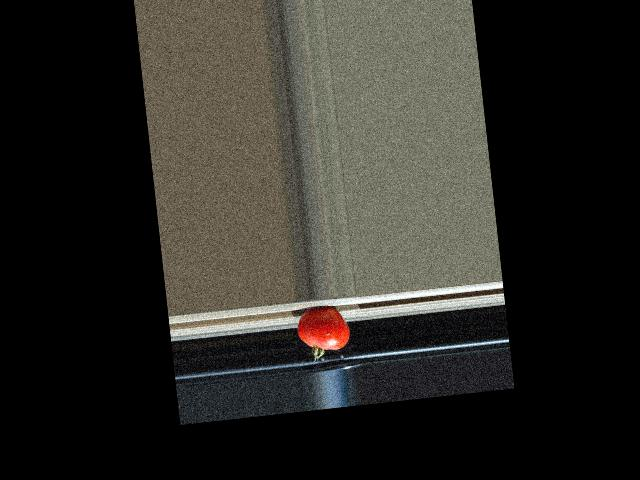tomato: (295, 305, 351, 362)
